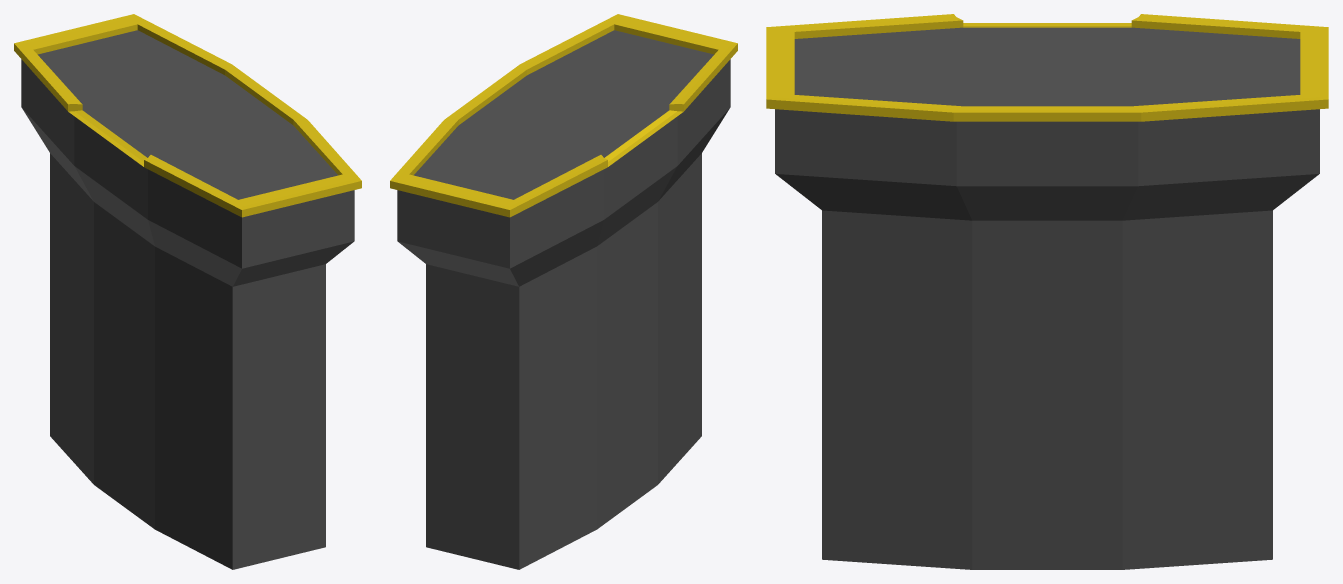
The model's file is DockPort.fbx.
3 renders of one model, left to right at view 1: azimuth 30°, elevation 25°; view 2: azimuth 150°, elevation 25°; view 3: azimuth 270°, elevation 25°, orthographic. The views are drawn at different scales.
Visible parts, largest first — view 1: Cube.001; view 2: Cube.001; view 3: Cube.001.
Boxes of the visible parts, x1,y1,x2,y2 form: Cube.001: [14, 14, 361, 569]; Cube.001: [390, 14, 737, 569]; Cube.001: [766, 14, 1328, 569].
Bounding box in the file's own units: 552 × 1223 × 1331.
